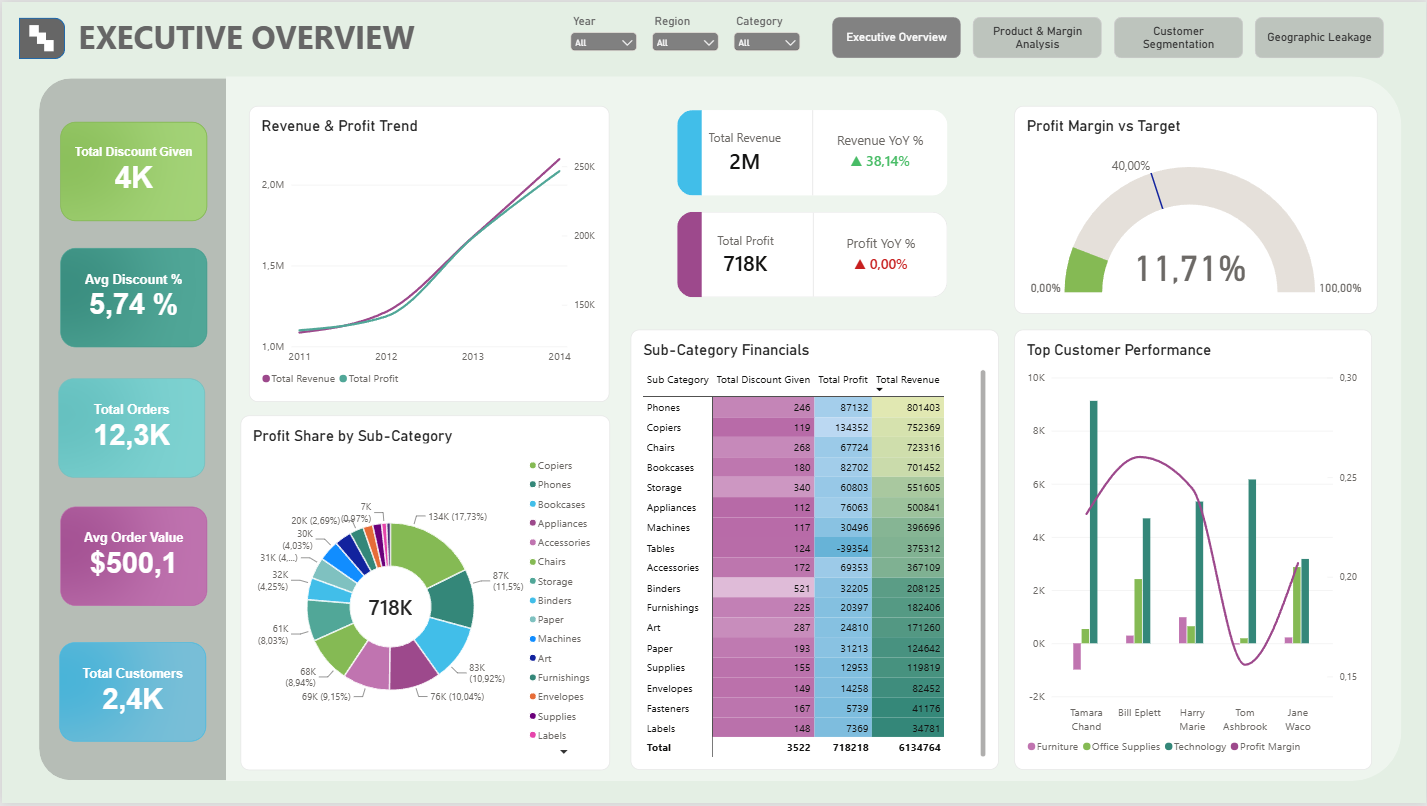

What the dashboard file says about the page in this screenshot:
{"tool":"powerbi","page":{"name":"Executive Overview","canvas":[1920,1080],"ordinal":0},"visuals":[{"type":"shape","box":[23,21.6,62.1,55.4],"z":0},{"type":"shape","box":[301.9,100,1584.6,950],"z":1000},{"type":"shape","box":[50,102.6,252,946],"z":2000},{"type":"cardVisual","fields":{"Data":["fact_sales.Total Discount Given"]},"box":[78.8,161.5,198,134],"z":3000},{"type":"cardVisual","fields":{"Data":["dim_customer.Total Orders"]},"box":[75.3,507.8,198,134],"z":4000},{"type":"cardVisual","fields":{"Data":["fact_sales.Avg Order Value"]},"box":[79.2,680.5,198,134],"z":5000},{"type":"lineChart","title":"Revenue & Profit Trend","fields":{"Y2":["fact_sales.Total Profit"],"Y":["fact_sales.Total Revenue"],"Category":["dim_date.year","dim_date.month_name"]},"box":[333.6,140.3,486.3,399],"z":6000},{"type":"pivotTable","title":"Sub-Category Financials","fields":{"Values":["fact_sales.Total Discount Given","fact_sales.Total Profit","fact_sales.Total Revenue"],"Rows":["dim_product.sub_category"]},"box":[846.7,441.7,496.7,593.3],"z":7000},{"type":"donutChart","title":"Profit Share by Sub-Category","fields":{"Category":["dim_product.sub_category"],"Y":["fact_sales.Total Profit"]},"box":[321.7,556.7,498.3,478.3],"z":8000},{"type":"lineClusteredColumnComboChart","title":"Top Customer Performance","fields":{"Category":["dim_customer.customer_name"],"Y":["fact_sales.Total Profit"],"Y2":["fact_sales.Profit Margin"],"Series":["dim_product.category"]},"box":[1365,441.7,481.7,593.3],"z":9000},{"type":"gauge","title":"Profit Margin vs Target","fields":{"Y":["fact_sales.Profit Margin"],"TargetValue":["dim_customer.Target Margin"]},"box":[1365,140,490,280],"z":10000},{"type":"cardVisual","fields":{"Data":["dim_customer.Total Customers"]},"box":[76.6,862.3,198,134],"z":11000},{"type":"textbox","box":[102.6,17.6,614.3,74.3],"z":12000},{"type":"cardVisual","fields":{"Data":["fact_sales.Total Revenue"]},"box":[909.6,146.2,364.1,115.3],"z":13000},{"type":"cardVisual","fields":{"Data":["fact_sales.Total Profit"]},"box":[909.7,282.2,364.1,115.3],"z":14000},{"type":"cardVisual","fields":{"Data":["dim_customer.Avg Discount %"]},"box":[78.8,330.8,198,134],"z":15000},{"type":"slicer","fields":{"Values":["dim_date.date_key.Variation.Date Hierarchy.Year"]},"box":[761.5,17.6,98.9,71.9],"z":16000},{"type":"slicer","fields":{"Values":["dim_location.region"]},"box":[870.9,17.6,98.9,71.9],"z":17000},{"type":"slicer","fields":{"Values":["dim_product.category"]},"box":[981.6,17.6,98.9,71.9],"z":18000},{"type":"shape","box":[37.8,31.1,12.2,14.9],"z":19000},{"type":"shape","box":[47.8,41.1,12.2,14.9],"z":20000},{"type":"shape","box":[57.8,51.1,12.2,14.9],"z":21000},{"type":"pageNavigator","box":[1117.9,20.3,748,56.7],"z":22000}]}

Visuals, with their boxes in screenshot pixels (x1, y1, x2, y2), scaled from the page's 1920x1080 canvas onto the 1427x806 screenshot:
shape: 17:16:63:57
shape: 224:75:1402:784
shape: 37:77:224:783
cardVisual - fact_sales.Total Discount Given: 59:121:206:221
cardVisual - dim_customer.Total Orders: 56:379:203:479
cardVisual - fact_sales.Avg Order Value: 59:508:206:608
"Revenue & Profit Trend" lineChart: 248:105:609:402
"Sub-Category Financials" pivotTable: 629:330:998:772
"Profit Share by Sub-Category" donutChart: 239:415:609:772
"Top Customer Performance" lineClusteredColumnComboChart: 1015:330:1373:772
"Profit Margin vs Target" gauge: 1015:104:1379:313
cardVisual - dim_customer.Total Customers: 57:644:204:744
textbox: 76:13:533:69
cardVisual - fact_sales.Total Revenue: 676:109:947:195
cardVisual - fact_sales.Total Profit: 676:211:947:297
cardVisual - dim_customer.Avg Discount %: 59:247:206:347
slicer - dim_date.date_key.Variation.Date Hierarchy.Year: 566:13:639:67
slicer - dim_location.region: 647:13:721:67
slicer - dim_product.category: 730:13:803:67
shape: 28:23:37:34
shape: 36:31:45:42
shape: 43:38:52:49
pageNavigator: 831:15:1387:57
